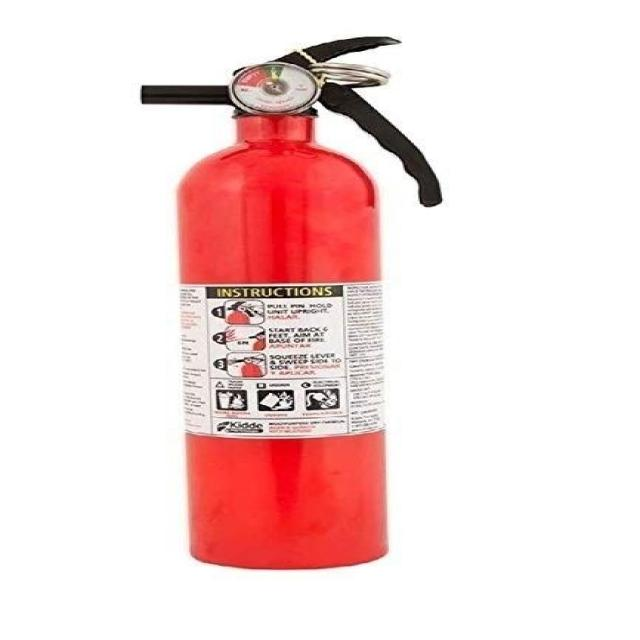fire_extinguisher: (128, 31, 450, 574)
